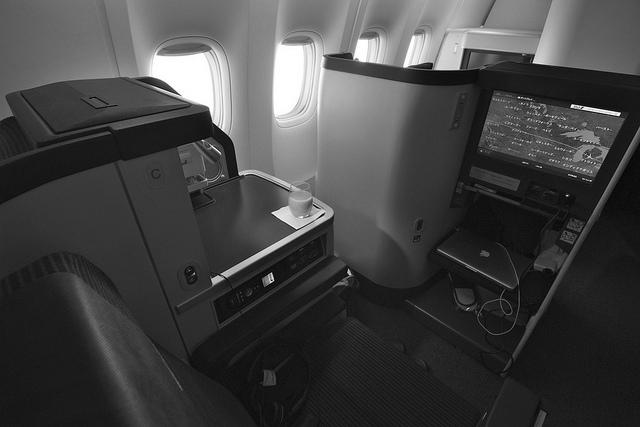glass: (287, 188, 315, 217)
